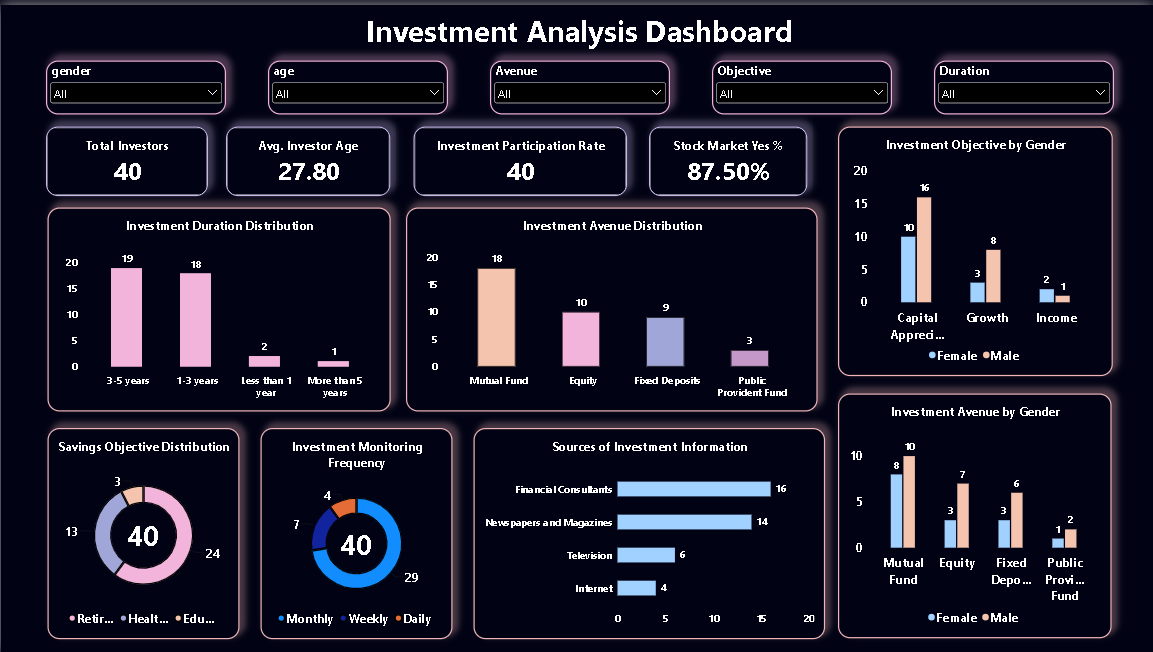

The page's visual inventory and layout, read from the dashboard file:
{"tool":"powerbi","page":{"name":"Task-7.Final Dashboard","canvas":[1920,1080],"ordinal":6},"visuals":[{"type":"textbox","box":[76,10.7,1778,65.3],"z":0},{"type":"clusteredColumnChart","title":"Investment Avenue by Gender","fields":{"Category":["Investments.Avenue"],"Series":["Investments.gender"],"Y":["CountNonNull(Investments.Avenue)"]},"box":[1396,648,456,408],"z":1000},{"type":"clusteredColumnChart","title":"Investment Duration Distribution","fields":{"Category":["Investments.Duration"],"Y":["CountNonNull(Investments.Duration)"]},"box":[78,338,572,340],"z":2000},{"type":"donutChart","title":"Savings Objective Distribution","fields":{"Category":["Investments.What are your savings objectives?"],"Y":["CountNonNull(Investments.What are your savings objectives?)"]},"box":[78,704,320,352],"z":3000},{"type":"clusteredColumnChart","title":"Investment Avenue Distribution","fields":{"Category":["Investments.Avenue"],"Y":["CountNonNull(Investments.Source)"]},"box":[674,338,686,340],"z":4000},{"type":"cardVisual","fields":{"Data":["All_Measures.Average Age"]},"box":[376,202,274,116],"z":5000},{"type":"cardVisual","fields":{"Data":["All_Measures.Total Respondents"]},"box":[76,202,270,116],"z":6000},{"type":"cardVisual","fields":{"Data":["All_Measures.Stock Market Yes %"]},"box":[1080,202,264,116],"z":7000},{"type":"cardVisual","fields":{"Data":["All_Measures.Investment Participation Count"]},"box":[688,202,356,116],"z":8000},{"type":"clusteredColumnChart","title":"Investment Objective by Gender","fields":{"Category":["Investments.Objective"],"Series":["Investments.gender"],"Y":["CountNonNull(Investments.Avenue)"]},"box":[1396,202,458,416],"z":9000},{"type":"clusteredBarChart","title":"Sources of Investment Information","fields":{"Category":["Investments.Source"],"Y":["CountNonNull(Investments.Source)"]},"box":[788,704,586,352],"z":10000},{"type":"donutChart","title":"Investment Monitoring Frequency","fields":{"Category":["Investments.Invest_Monitor"],"Y":["CountNonNull(Investments.Invest_Monitor)"]},"box":[433,704,320,352],"z":11000},{"type":"slicer","fields":{"Values":["Investments.gender"]},"box":[76,92,300,90],"z":12000},{"type":"slicer","fields":{"Values":["Investments.age"]},"box":[445.5,92,300,90],"z":13000},{"type":"slicer","fields":{"Values":["Investments.Avenue"]},"box":[815,92,300,90],"z":14000},{"type":"slicer","fields":{"Values":["Investments.Objective"]},"box":[1184.5,92,300,90],"z":15000},{"type":"slicer","fields":{"Values":["Investments.Duration"]},"box":[1554,92,300,90],"z":16000}]}

Visuals, with their boxes in screenshot pixels (x1, y1, x2, y2), scaled from the page's 1920x1080 canvas onto the 1153x652 screenshot:
textbox: {"x1": 46, "y1": 6, "x2": 1113, "y2": 46}
"Investment Avenue by Gender" clusteredColumnChart: {"x1": 838, "y1": 391, "x2": 1112, "y2": 638}
"Investment Duration Distribution" clusteredColumnChart: {"x1": 47, "y1": 204, "x2": 390, "y2": 409}
"Savings Objective Distribution" donutChart: {"x1": 47, "y1": 425, "x2": 239, "y2": 638}
"Investment Avenue Distribution" clusteredColumnChart: {"x1": 405, "y1": 204, "x2": 817, "y2": 409}
cardVisual - All_Measures.Average Age: {"x1": 226, "y1": 122, "x2": 390, "y2": 192}
cardVisual - All_Measures.Total Respondents: {"x1": 46, "y1": 122, "x2": 208, "y2": 192}
cardVisual - All_Measures.Stock Market Yes %: {"x1": 649, "y1": 122, "x2": 807, "y2": 192}
cardVisual - All_Measures.Investment Participation Count: {"x1": 413, "y1": 122, "x2": 627, "y2": 192}
"Investment Objective by Gender" clusteredColumnChart: {"x1": 838, "y1": 122, "x2": 1113, "y2": 373}
"Sources of Investment Information" clusteredBarChart: {"x1": 473, "y1": 425, "x2": 825, "y2": 638}
"Investment Monitoring Frequency" donutChart: {"x1": 260, "y1": 425, "x2": 452, "y2": 638}
slicer - Investments.gender: {"x1": 46, "y1": 56, "x2": 226, "y2": 110}
slicer - Investments.age: {"x1": 268, "y1": 56, "x2": 448, "y2": 110}
slicer - Investments.Avenue: {"x1": 489, "y1": 56, "x2": 670, "y2": 110}
slicer - Investments.Objective: {"x1": 711, "y1": 56, "x2": 891, "y2": 110}
slicer - Investments.Duration: {"x1": 933, "y1": 56, "x2": 1113, "y2": 110}
